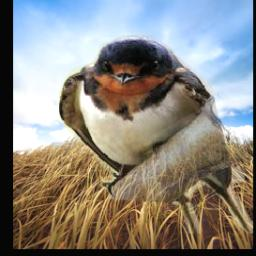Swallow: (59, 36, 253, 235)
